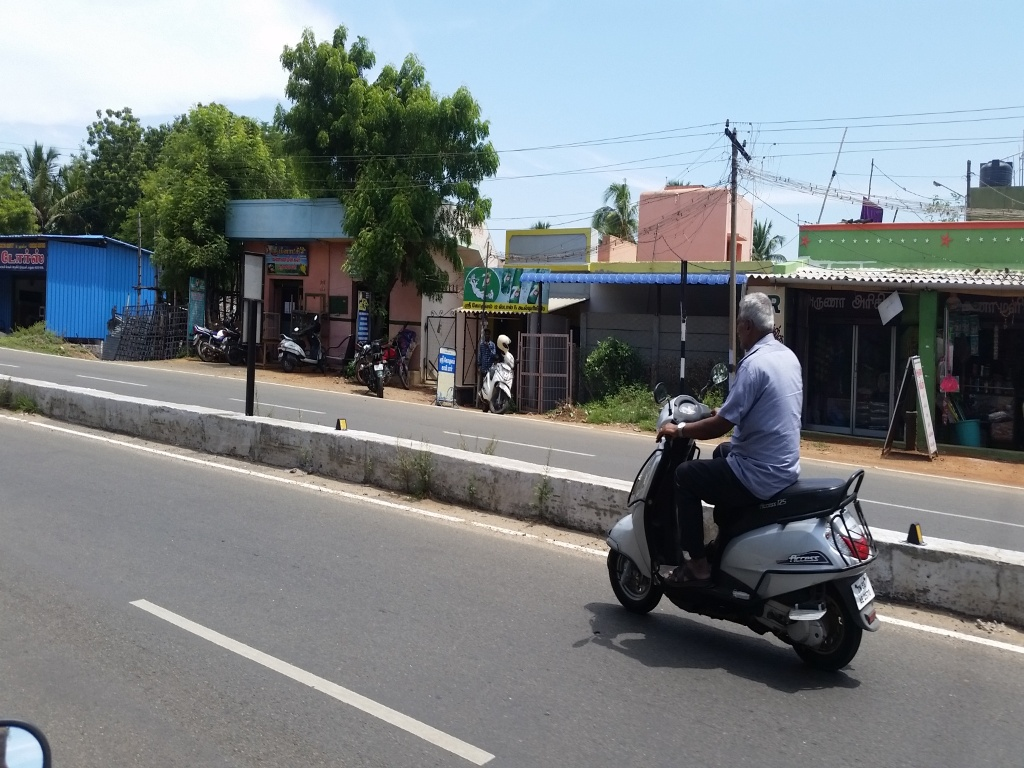biker: (577, 211, 914, 688)
nohelmet: (727, 276, 790, 360)
